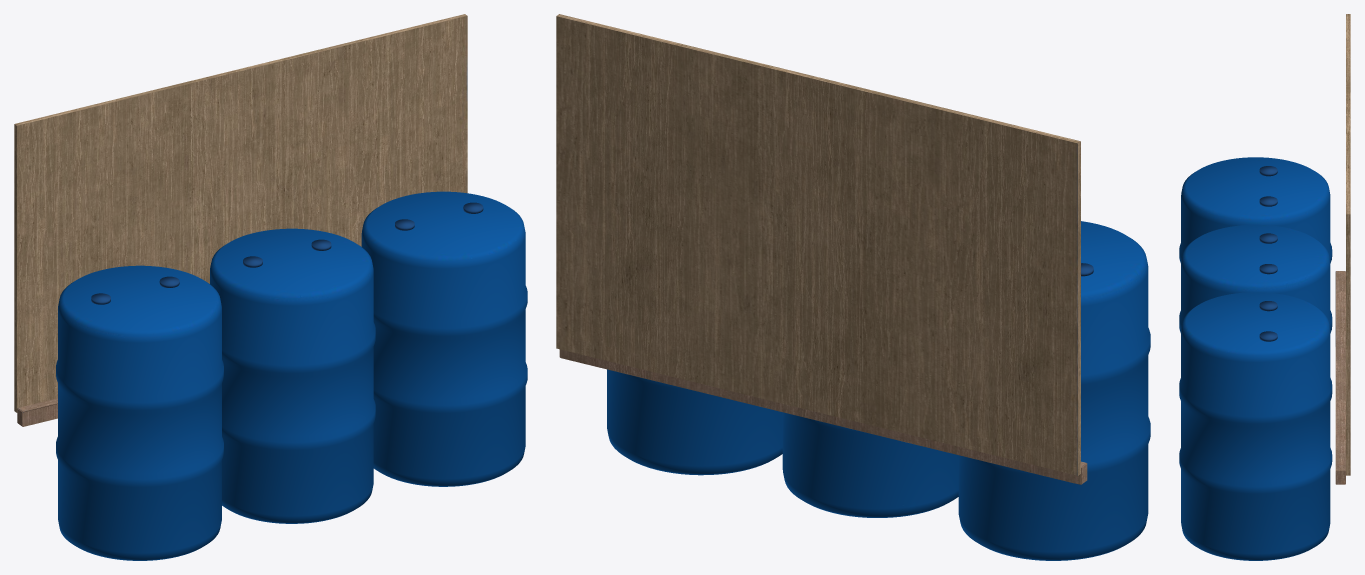
Rendered from obj_barrel_barricade.glb.
3 views of the same model, side by side, from view 1: azimuth 30°, elevation 25°; view 2: azimuth 150°, elevation 25°; view 3: azimuth 270°, elevation 25° (orthographic). The views are drawn at different scales.
Parts seen in each view (by area): view 1: barrel_barricade_body; view 2: barrel_barricade_body; view 3: barrel_barricade_body.
Boxes of the visible parts, left/top/right/bottom form: barrel_barricade_body: left=14, top=14, right=527, bottom=560; barrel_barricade_body: left=556, top=14, right=1150, bottom=560; barrel_barricade_body: left=1179, top=14, right=1350, bottom=560.
Size of the model in its own units: 1.84 by 1.5 by 0.666.
Materials: 2 (1 with a texture image).
